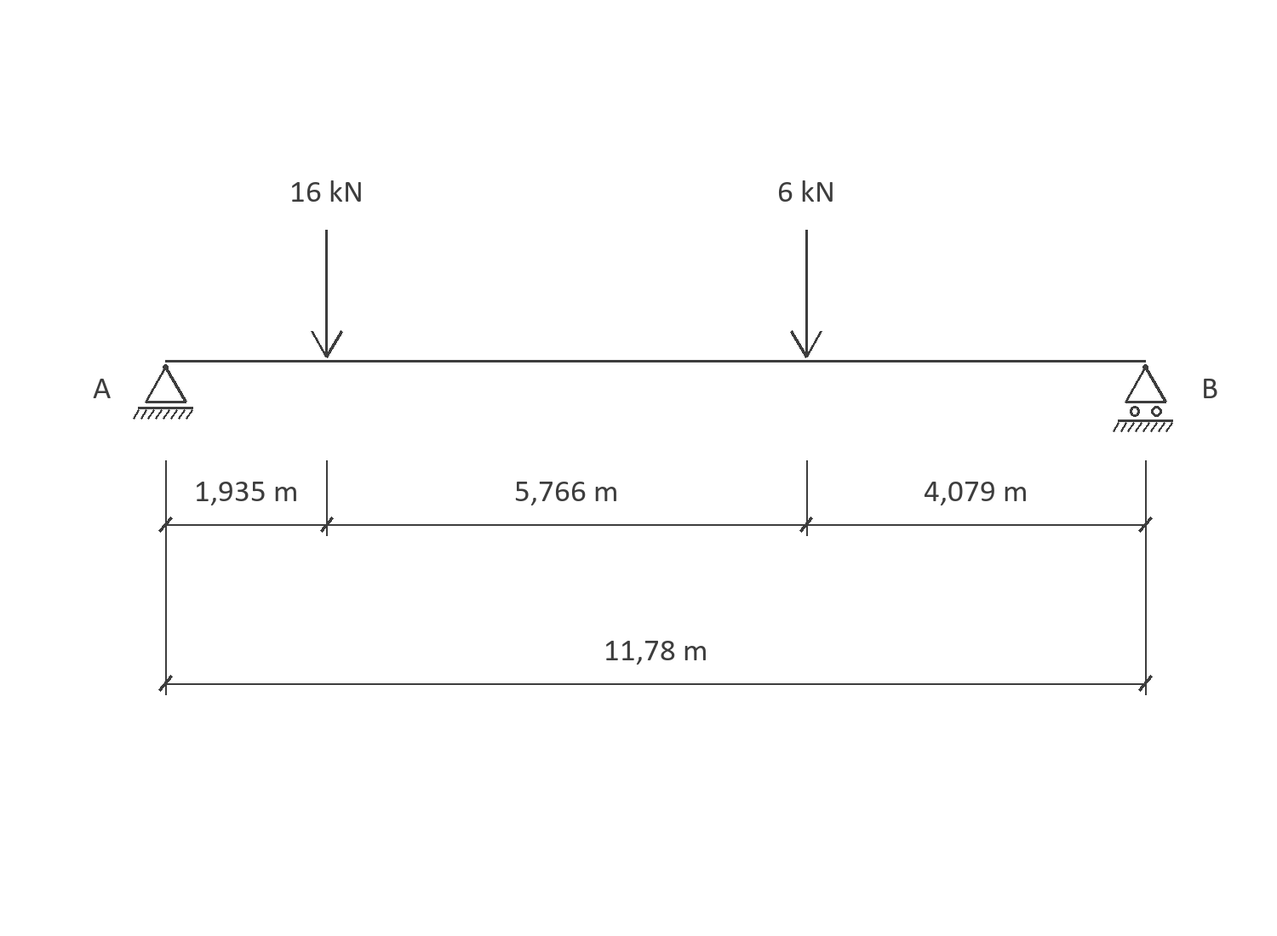pin_support: (133, 364, 193, 419)
point_load: (311, 230, 343, 358), (790, 230, 822, 358)
roller_support: (1113, 364, 1173, 432)
